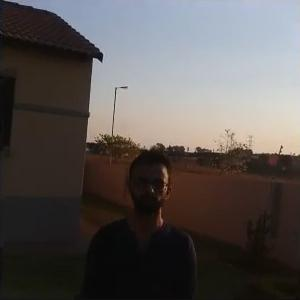follow: (77, 146, 201, 298)
